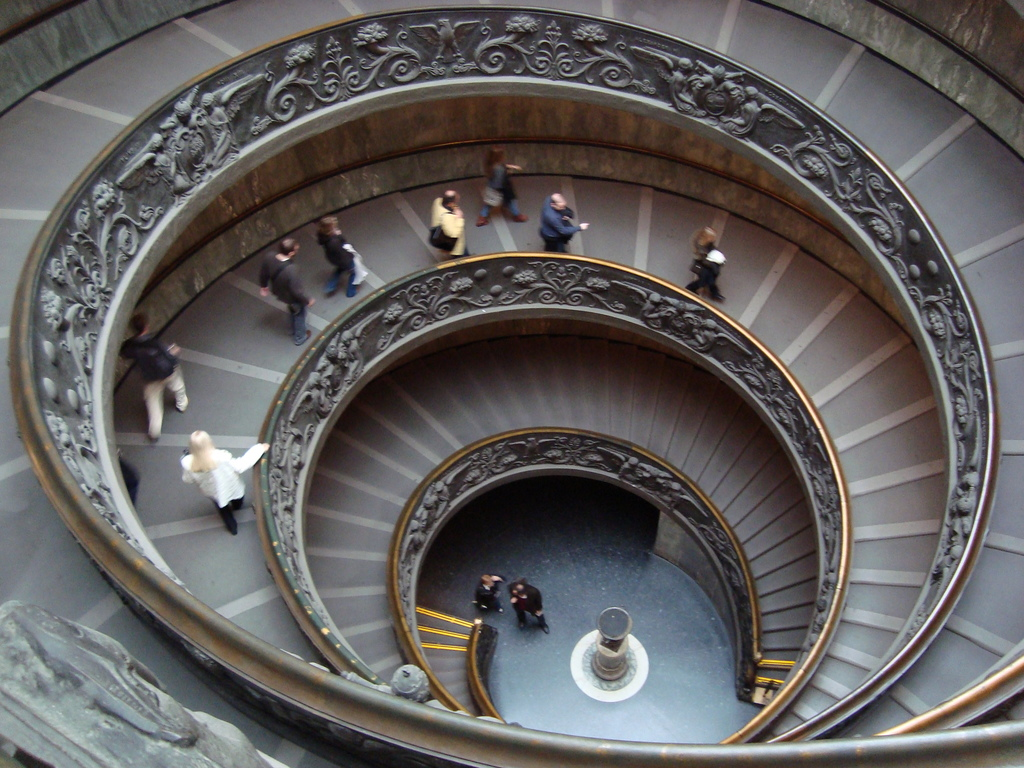Footwear: (477, 214, 495, 227), (511, 214, 529, 223), (298, 331, 307, 347)
